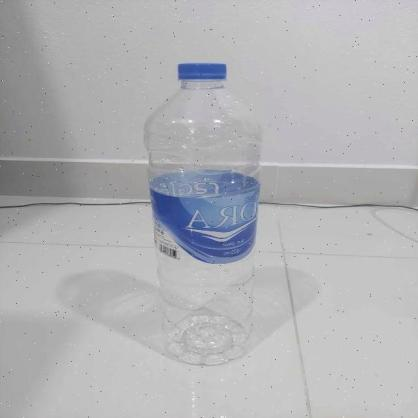bottle: (143, 62, 261, 366)
cap: (174, 61, 229, 85)
label: (151, 170, 259, 260)
